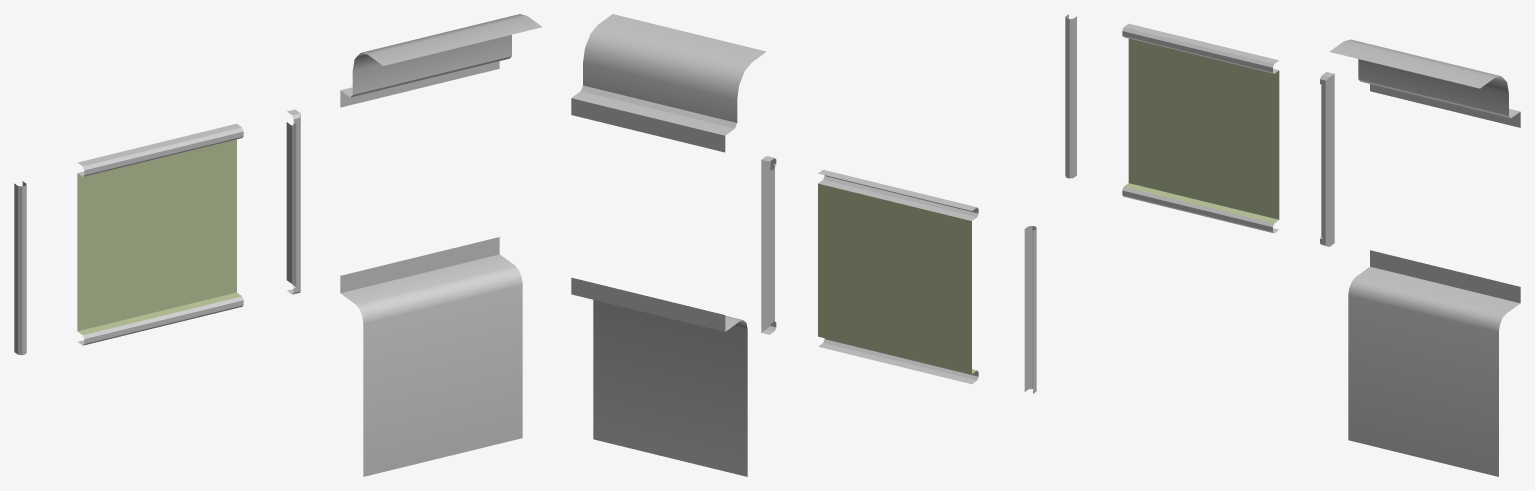
File: window's.fbx
The picture shows the model from 3 angles, left to right: view 1: azimuth 30°, elevation 25°; view 2: azimuth 150°, elevation 25°; view 3: azimuth 330°, elevation 25°; orthographic projection. The views are drawn at different scales.
Parts seen in each view (by area): view 1: wall_open_1, Window_mid, Window_bar, Window_mid_bar; view 2: wall_open_1, Window_mid, Window_bar, Window_mid_bar; view 3: wall_open_1, Window_mid, Window_bar, Window_mid_bar.
Boxes of the visible parts, x1,y1,x2,y2 form: wall_open_1: (340, 14, 542, 476); Window_mid: (77, 123, 243, 345); Window_bar: (286, 109, 300, 294); Window_mid_bar: (14, 181, 26, 355); wall_open_1: (571, 14, 766, 476); Window_mid: (818, 169, 978, 384); Window_bar: (761, 156, 776, 334); Window_mid_bar: (1024, 226, 1036, 393); wall_open_1: (1329, 39, 1520, 476); Window_mid: (1122, 23, 1279, 233); Window_bar: (1320, 72, 1334, 246); Window_mid_bar: (1065, 14, 1076, 178).
Bounding box in the file's own units: 363 × 306 × 61.
